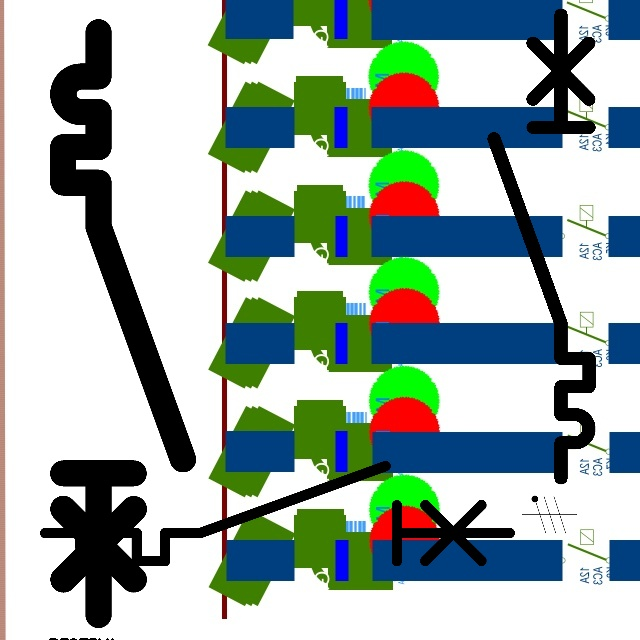interruptor_termomagnetico: (48, 17, 198, 630), (33, 454, 521, 573), (482, 3, 601, 490)
